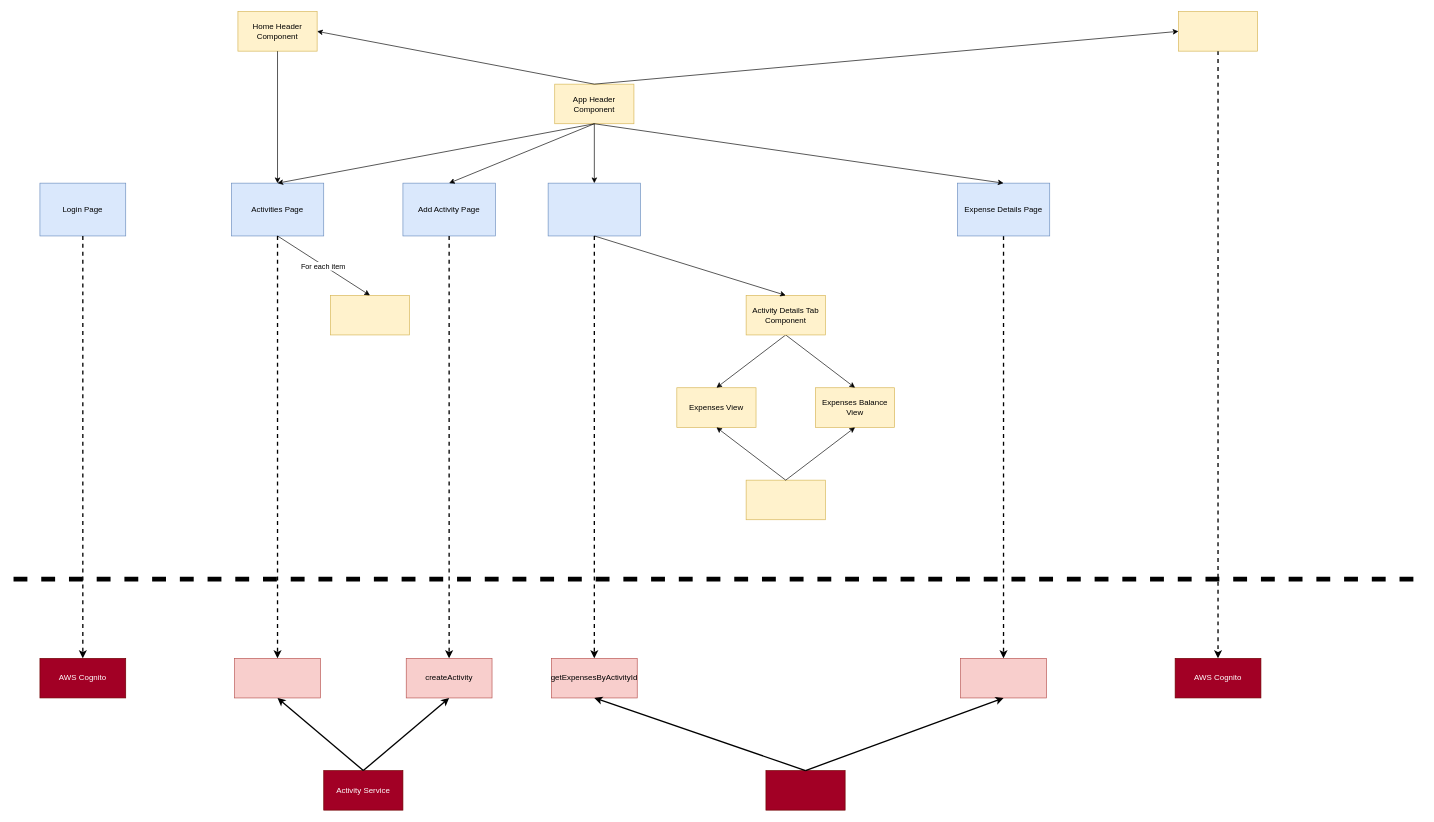
Image size: 1434x822. Some labels were removed from this diagram. The centre of each missing label's shape, as x and y in pixels:
Activity Details Bottom: the point at 785,499
Activity Details Page: the point at 594,209
Activity Summary Component: the point at 370,315
deleteExpense: the point at 1003,678
Expense Service: the point at 805,790
getActivitiesByUsername: the point at 277,678
Logout Component: the point at 1218,31
